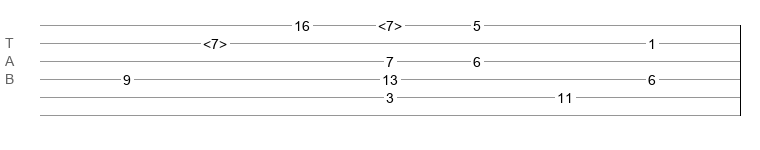1: (648, 36, 656, 46)
11: (557, 90, 573, 100)
13: (382, 72, 398, 82)
16: (294, 18, 310, 28)
3: (386, 90, 394, 100)
5: (473, 18, 481, 28)
6: (473, 54, 481, 64), (648, 72, 656, 82)
7: (386, 54, 394, 64)
9: (123, 72, 131, 82)
harmonic: (203, 36, 227, 46), (378, 18, 402, 28)
